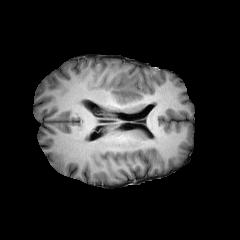glioma: (108, 70, 158, 110)
